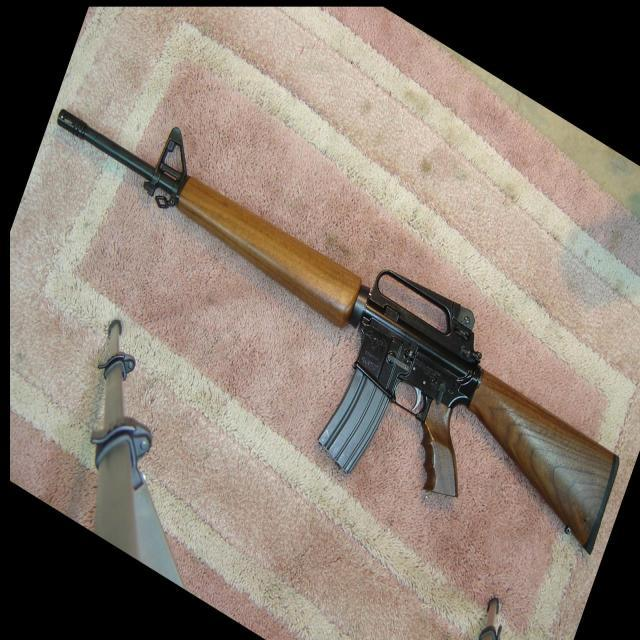weapon: (56, 108, 622, 556)
